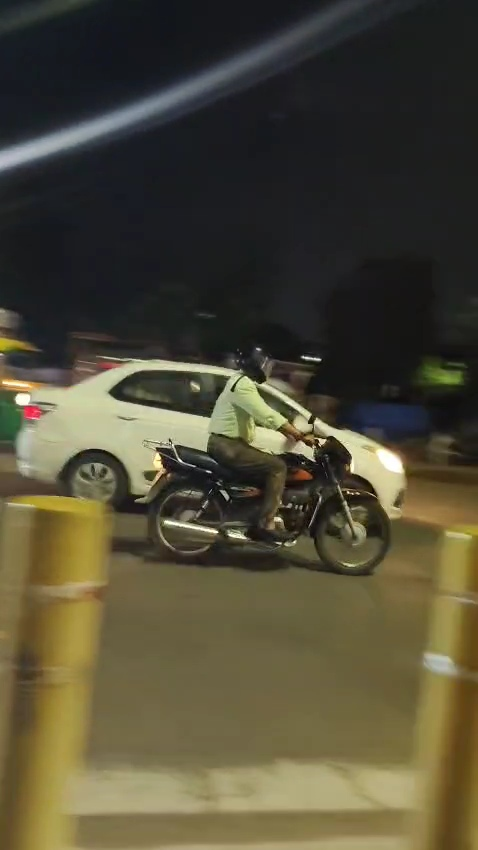BikeWithRider: (129, 337, 407, 583)
Helmet: (221, 339, 282, 387)
